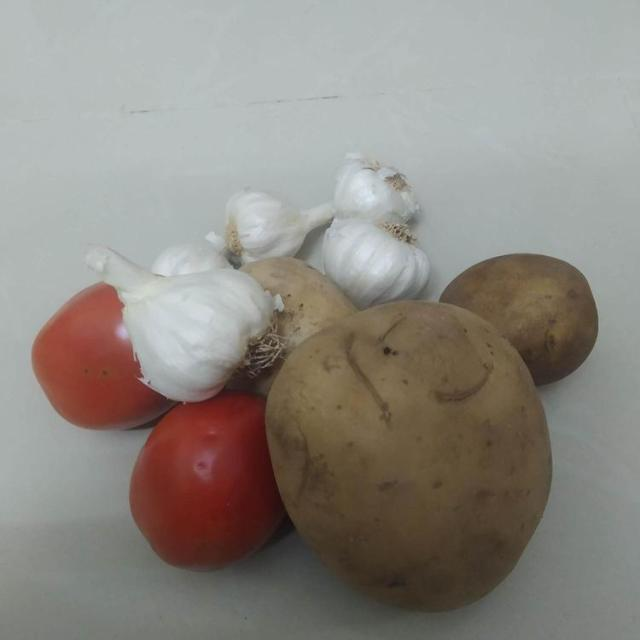Organik: (270, 295, 566, 624), (84, 239, 292, 406), (125, 386, 288, 574), (442, 250, 603, 378), (26, 287, 166, 430), (328, 214, 432, 299), (213, 190, 320, 265), (328, 158, 435, 221)
